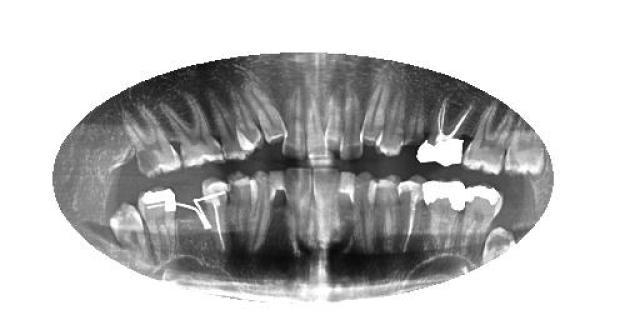Cavity: (125, 109, 181, 178), (402, 94, 426, 156)
Fillings: (136, 188, 179, 262), (422, 180, 466, 251), (462, 185, 502, 254)
Implant: (416, 98, 475, 168), (200, 178, 231, 252), (398, 176, 422, 256)
